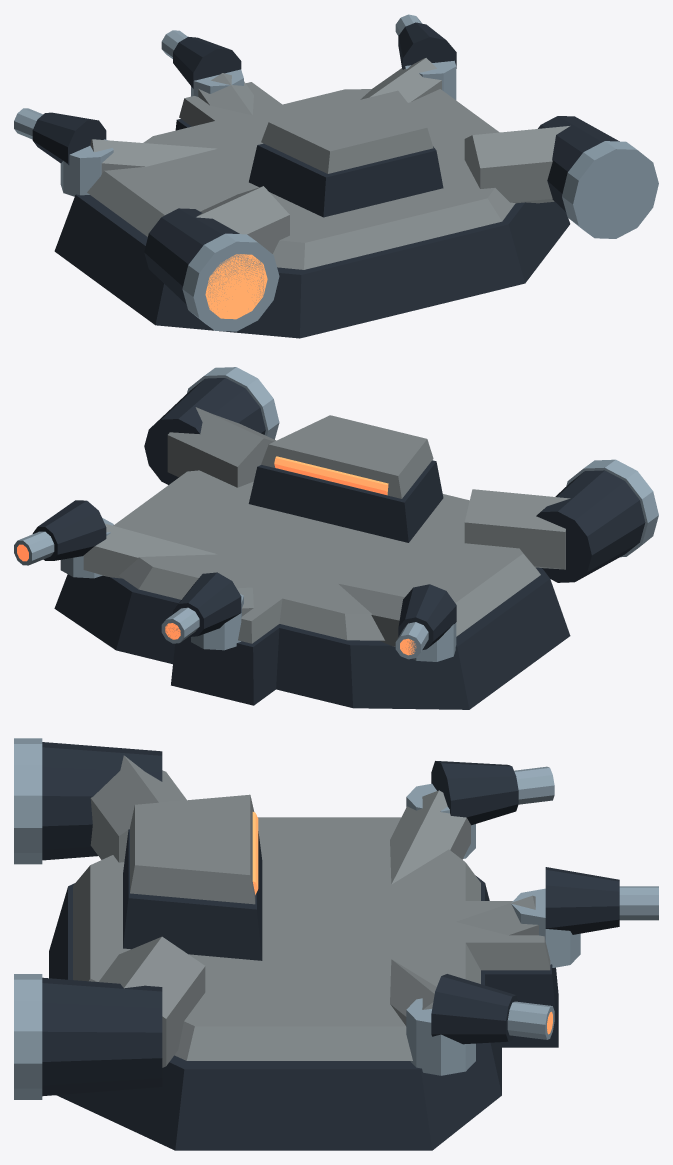
File: c3_compositeEnemy.glb
The picture shows the model from 3 angles, top to bottom: view 1: azimuth 30°, elevation 25°; view 2: azimuth 150°, elevation 25°; view 3: azimuth 270°, elevation 25°; orthographic projection. The views are drawn at different scales.
Parts seen in each view (by area): view 1: compositeEnemy / Armor, compositeEnemy / Chassis, compositeEnemy / Titanium, compositeEnemy / Energy; view 2: compositeEnemy / Chassis, compositeEnemy / Armor, compositeEnemy / Titanium, compositeEnemy / Energy; view 3: compositeEnemy / Armor, compositeEnemy / Chassis, compositeEnemy / Titanium, compositeEnemy / Energy.
Boxes of the visible parts, box(x1,y1,x2,y2) form: compositeEnemy / Armor: box(87, 58, 569, 269); compositeEnemy / Chassis: box(32, 22, 619, 338); compositeEnemy / Titanium: box(14, 14, 658, 331); compositeEnemy / Energy: box(205, 254, 267, 319); compositeEnemy / Chassis: box(32, 378, 645, 709); compositeEnemy / Armor: box(83, 407, 570, 646); compositeEnemy / Titanium: box(14, 367, 658, 661); compositeEnemy / Energy: box(17, 456, 416, 655); compositeEnemy / Armor: box(73, 755, 550, 1067); compositeEnemy / Chassis: box(42, 742, 619, 1150); compositeEnemy / Titanium: box(14, 738, 658, 1099); compositeEnemy / Energy: box(252, 812, 552, 1034).
Size of the model in its own units: 1.57 by 0.473 by 1.48.
